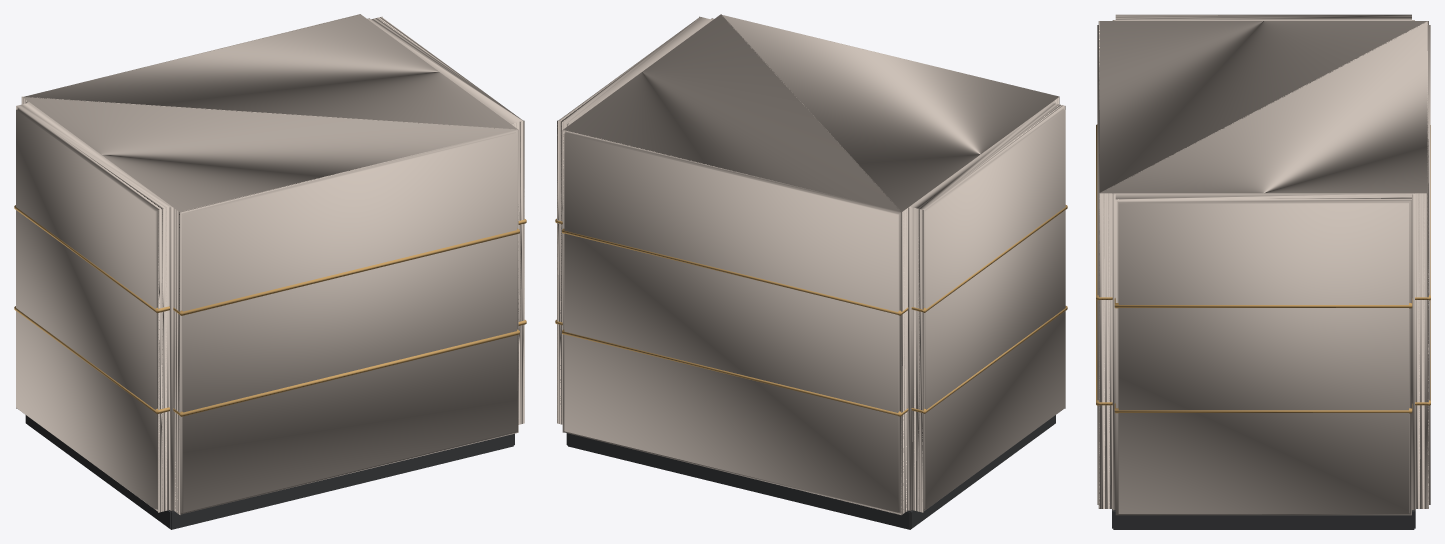
The picture shows the model from 3 angles, left to right: view 1: azimuth 30°, elevation 25°; view 2: azimuth 150°, elevation 25°; view 3: azimuth 270°, elevation 25°; orthographic projection. The views are drawn at different scales.
Visible parts, largest first — view 1: ashara-54-nightstand; view 2: ashara-54-nightstand; view 3: ashara-54-nightstand.
Part boxes in pixels (box(x1,y1,x2,y2)): ashara-54-nightstand: box(14, 14, 526, 529); ashara-54-nightstand: box(555, 14, 1067, 529); ashara-54-nightstand: box(1096, 14, 1430, 529).
Size of the model in its own units: 0.601 by 0.5 by 0.452.
